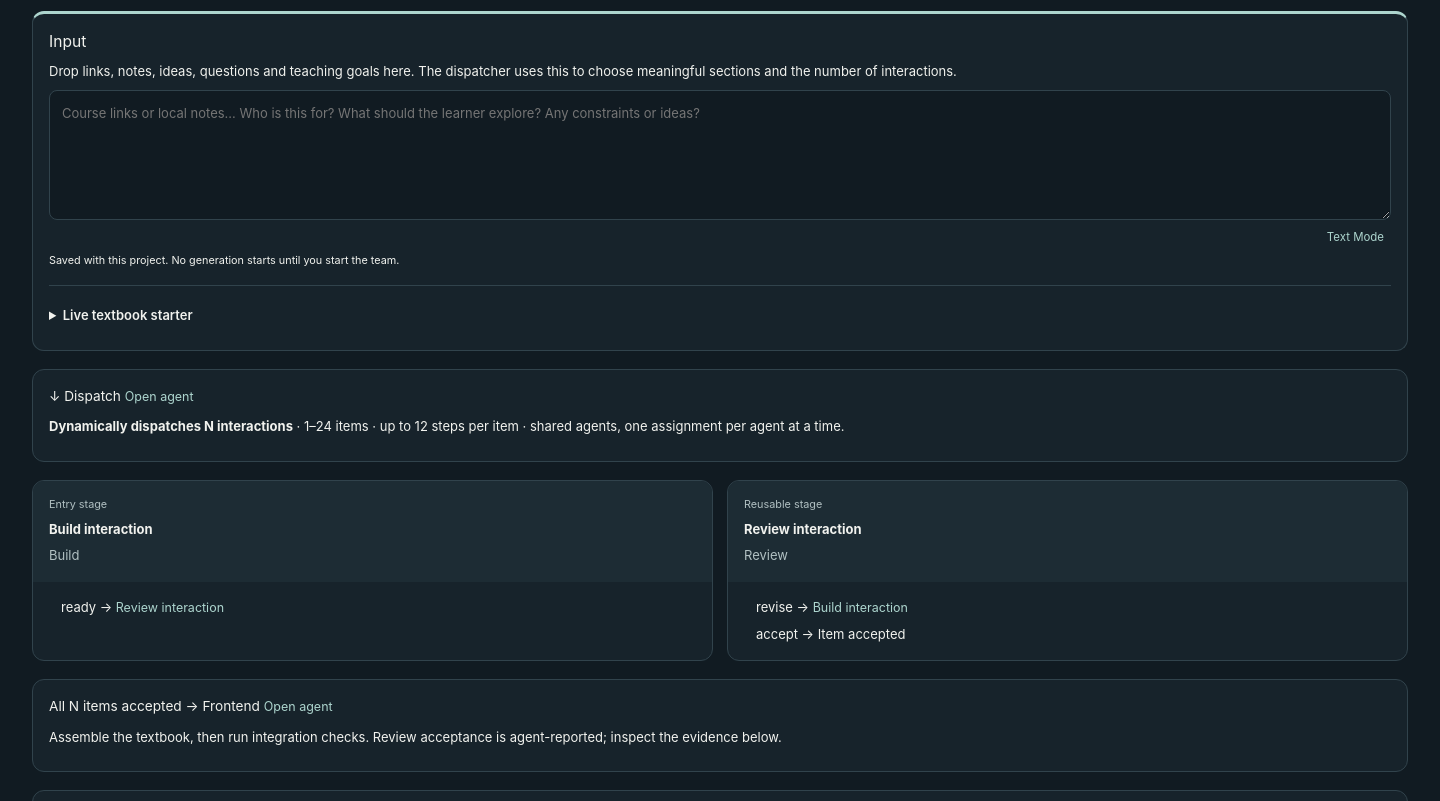
it: creates a separate worker with the same role and includes it in stage capacity
The width and height of the screenshot is (1440, 801).
Click the button "Entry stage Build interaction Build" at coordinates (78, 504), box [33,481,712,582]
(page scrolled)
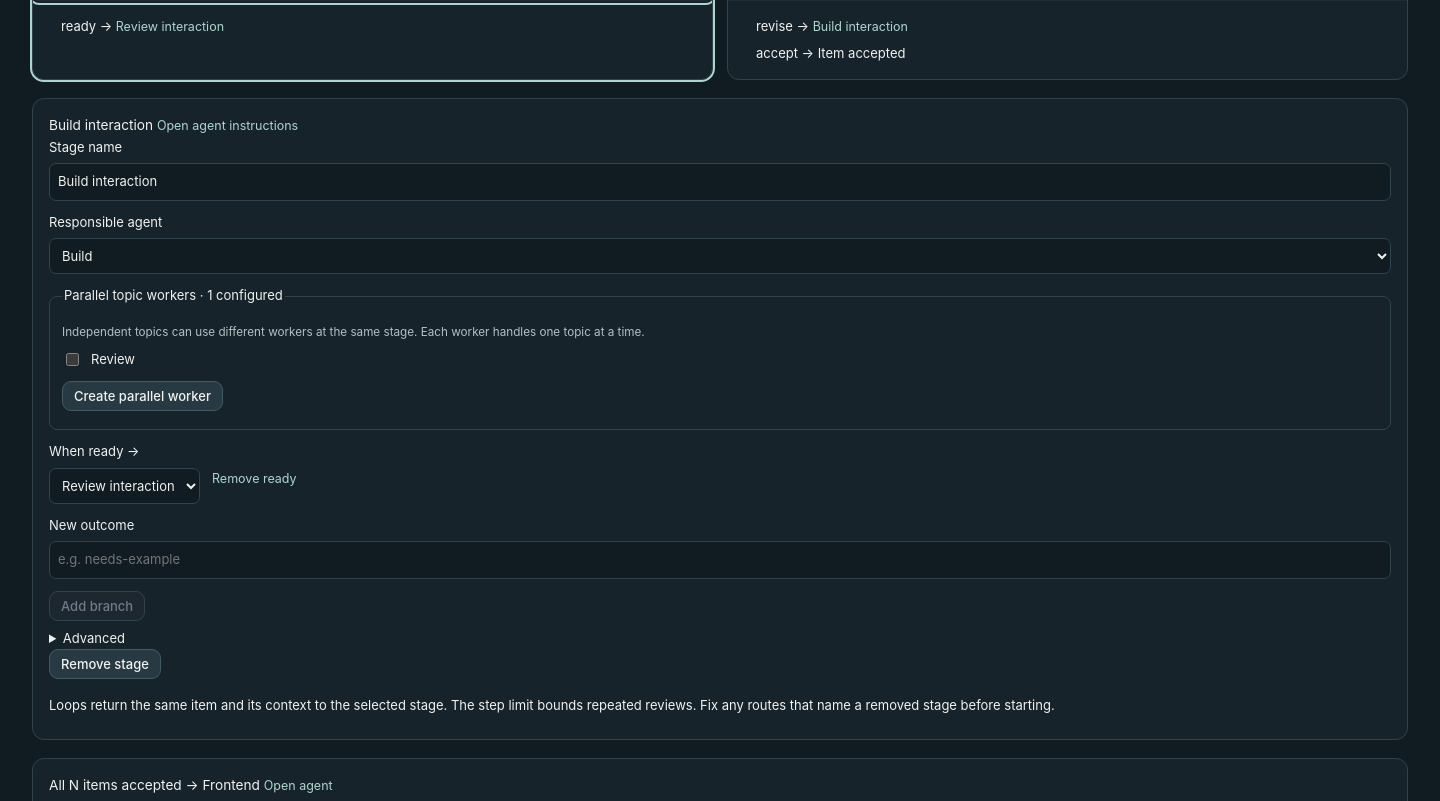
Click the button "Create parallel worker" at coordinates (142, 396), box [62,381,223,411]
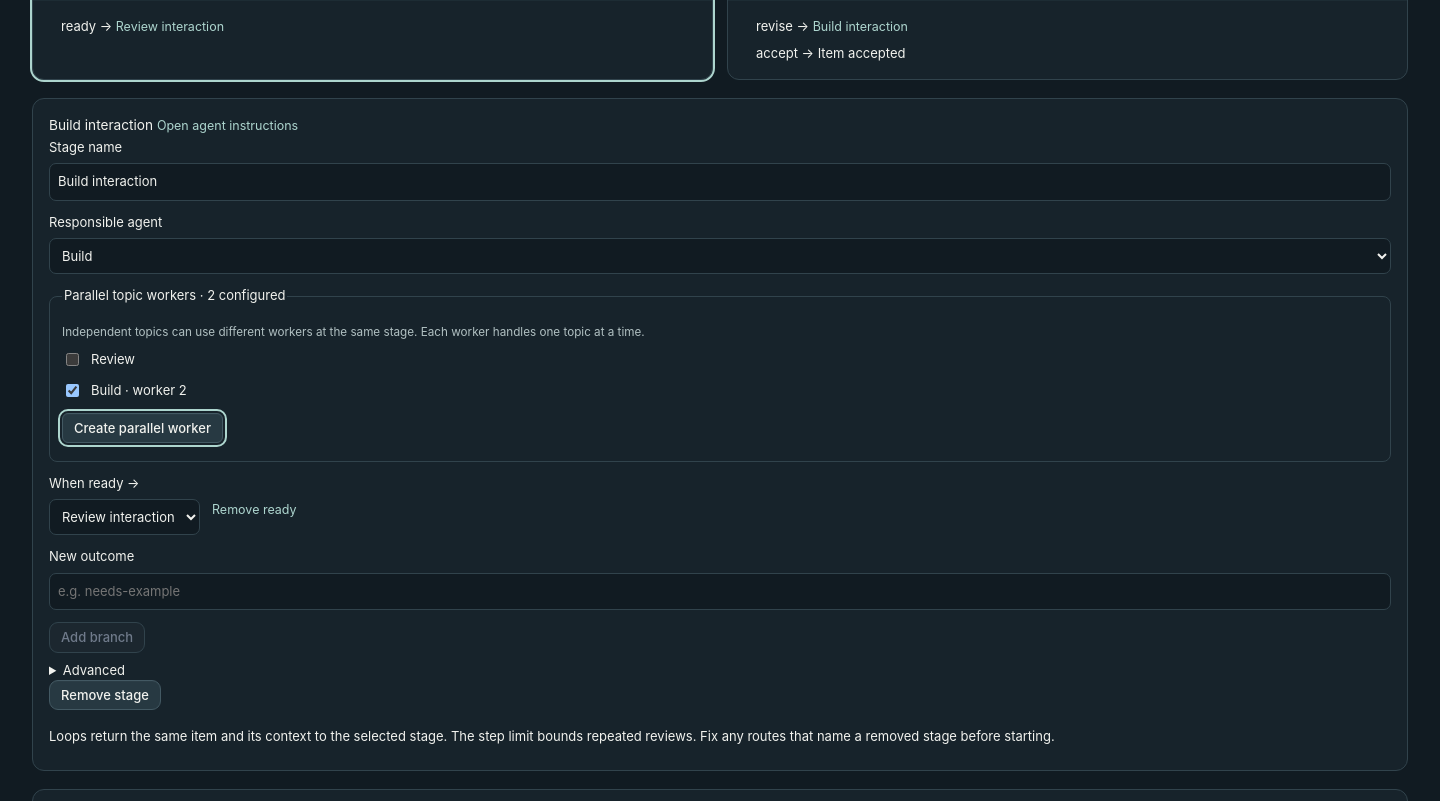
Expected: the element "Parallel topic workers · 2" is shown, [49,286,1391,462]
